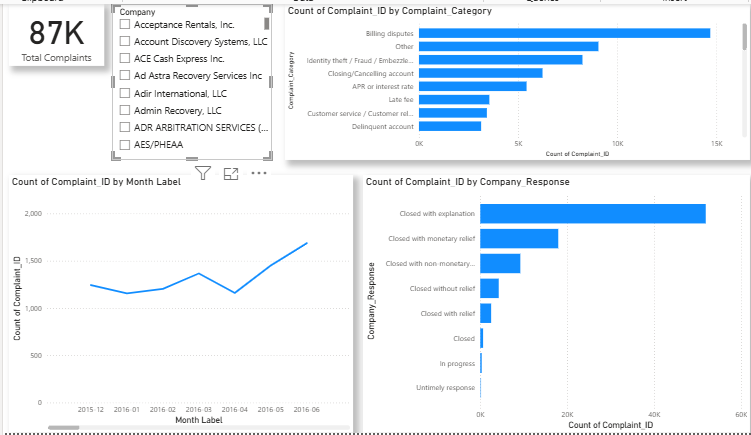

This screenshot's page, from the dashboard's own definition file:
{"tool":"powerbi","page":{"name":"Page 1","canvas":[1280,720],"ordinal":0},"visuals":[{"type":"card","fields":{"Values":["_Measure.Total Complaints"]},"box":[10.1,0,159.6,104.1],"z":0},{"type":"clusteredBarChart","fields":{"Category":["Cleaned Data.Complaint_Category"],"Y":["CountNonNull(Cleaned Data.Complaint_ID)"]},"box":[473.7,0,781.1,262],"z":1},{"type":"lineChart","fields":{"Y":["CountNonNull(Cleaned Data.Complaint_ID)"],"Category":["Cleaned Data.Month Label"]},"box":[10.1,287.2,577.8,433.4],"z":2},{"type":"clusteredBarChart","fields":{"Category":["Cleaned Data.Company_Response"],"Y":["CountNonNull(Cleaned Data.Complaint_ID)"]},"box":[604.7,287.2,650.1,433.4],"z":3},{"type":"slicer","fields":{"Values":["Cleaned Data.Company"]},"box":[183.1,0,268.8,262],"z":4}]}

Visuals, with their boxes in screenshot pixels (x1, y1, x2, y2), scaled from the page's 1280x720 canvas onto the 751x435 screenshot:
card - _Measure.Total Complaints: locate(6, 0, 100, 63)
clusteredBarChart - Cleaned Data.Complaint_Category x CountNonNull(Cleaned Data.Complaint_ID): locate(278, 0, 736, 158)
lineChart - CountNonNull(Cleaned Data.Complaint_ID) x Cleaned Data.Month Label: locate(6, 174, 345, 434)
clusteredBarChart - Cleaned Data.Company_Response x CountNonNull(Cleaned Data.Complaint_ID): locate(355, 174, 736, 434)
slicer - Cleaned Data.Company: locate(107, 0, 265, 158)
